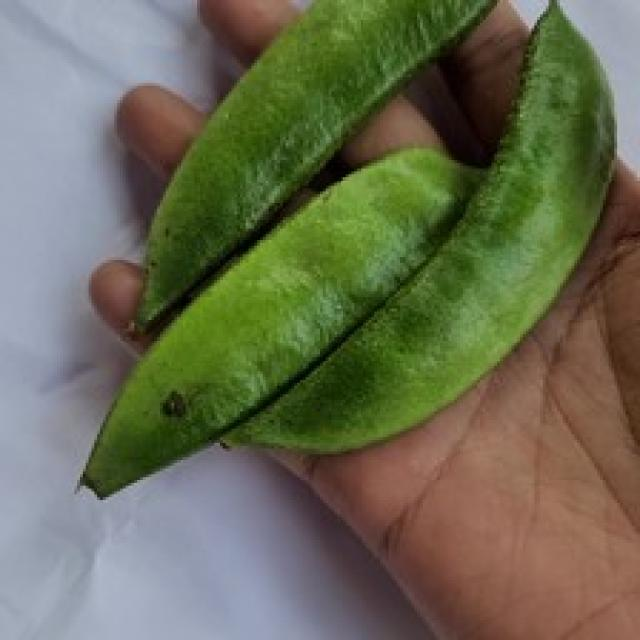Bean: (74, 0, 617, 500)
